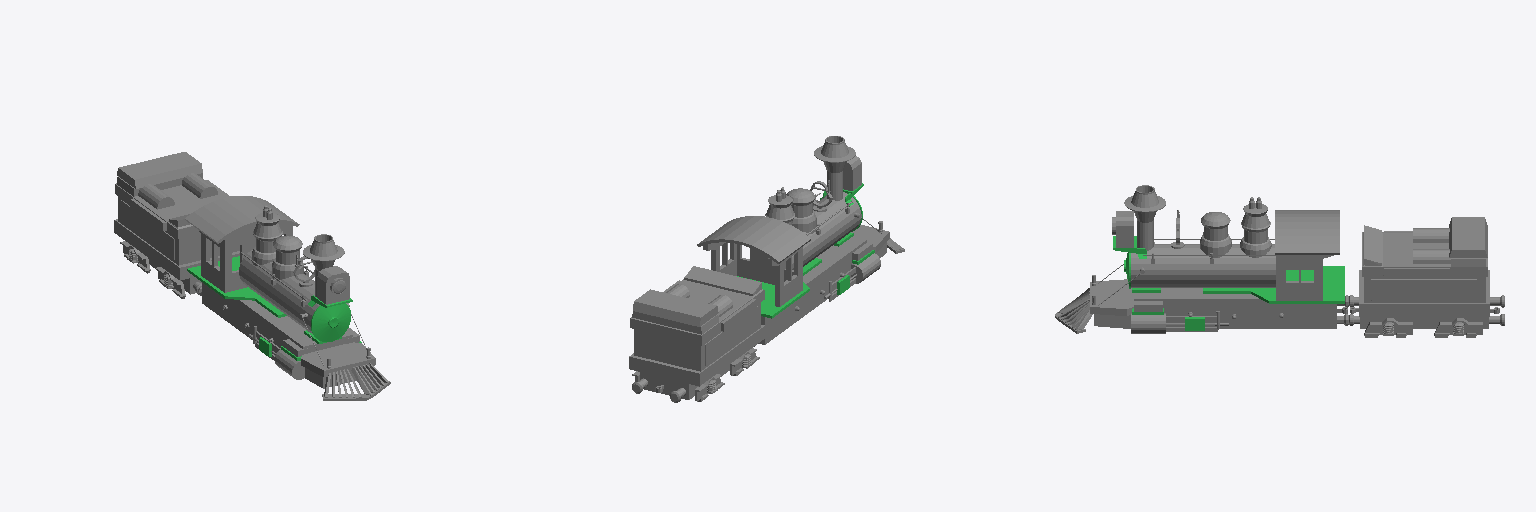
3 renders of one model, left to right at view 1: azimuth 30°, elevation 25°; view 2: azimuth 150°, elevation 25°; view 3: azimuth 270°, elevation 25°, orthographic.
Parts seen in each view (by area): view 1: train, wagon; view 2: train, wagon; view 3: train, wagon.
Boxes of the visible parts, <box> form: train: <box>185,196,390,400</box>; wagon: <box>114,152,239,298</box>; train: <box>697,136,904,344</box>; wagon: <box>629,266,764,402</box>; train: <box>1055,185,1348,333</box>; wagon: <box>1349,217,1504,337</box>.
Bounding box in the file's own units: 0.9966 × 1.54 × 4.71.
Materials: 5 (1 with a texture image).